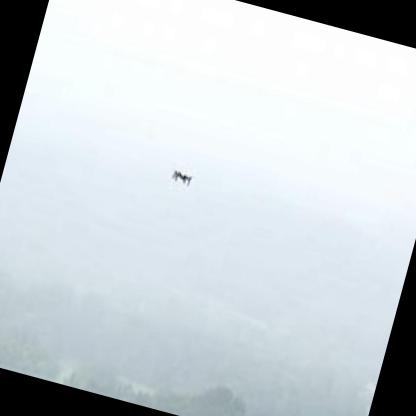drone: (166, 163, 197, 191)
